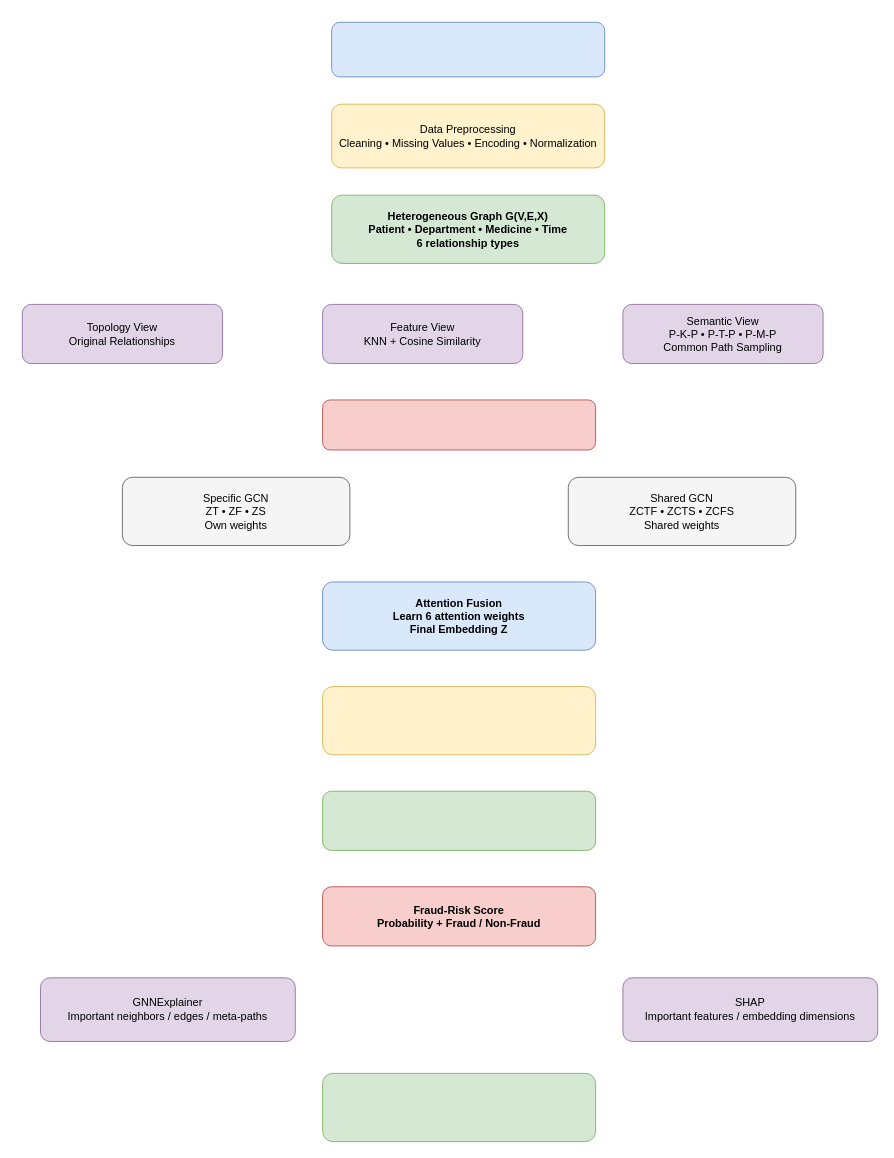
The diagram is 894 pixels wide and 1158 high, and some of its shapes have lost their labels. The shapes that lost their labels are listed below. From the top down, each one's centre as x and y in pixels, then its label:
At (x=468, y=49): "Healthcare Claims Data".
At (x=459, y=424): "Multi-View GCN".
At (x=459, y=720): "GA / WOA Optimization Classifier hyperparameters + Z-dimension selection".
At (x=459, y=820): "Optimized Classifier Random Forest / XGBoost / SVM".
At (x=459, y=1107): "Combined Explanation Fraud Prediction + Human-Readable Reason".
